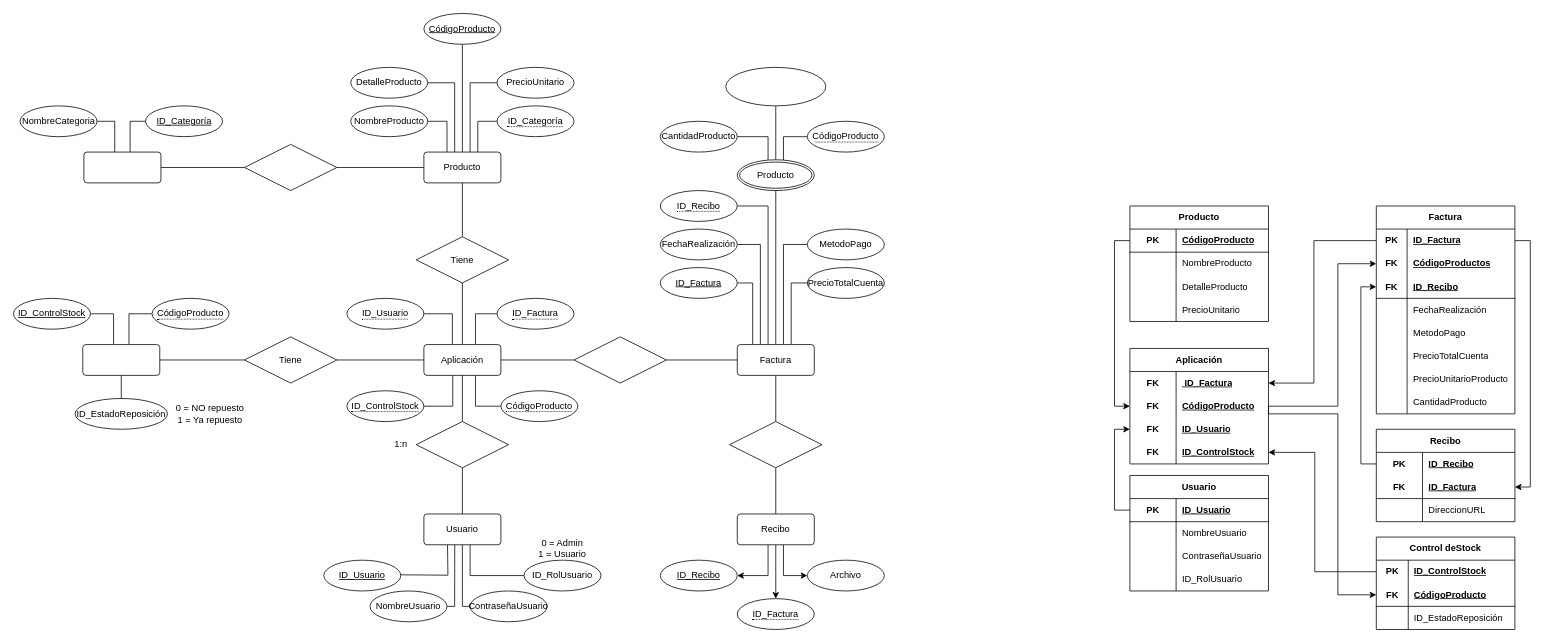
This 1550x643 diagram has some shape labels left out. Each missing label, with the centre of its shape:
Accede: (462,444)
Categoría: (122,167)
Control de Stock: (121,359)
Genera: (775,444)
Pertenece: (290,167)
PrecioUnitario Producto: (775,86)
Produce: (619,359)
